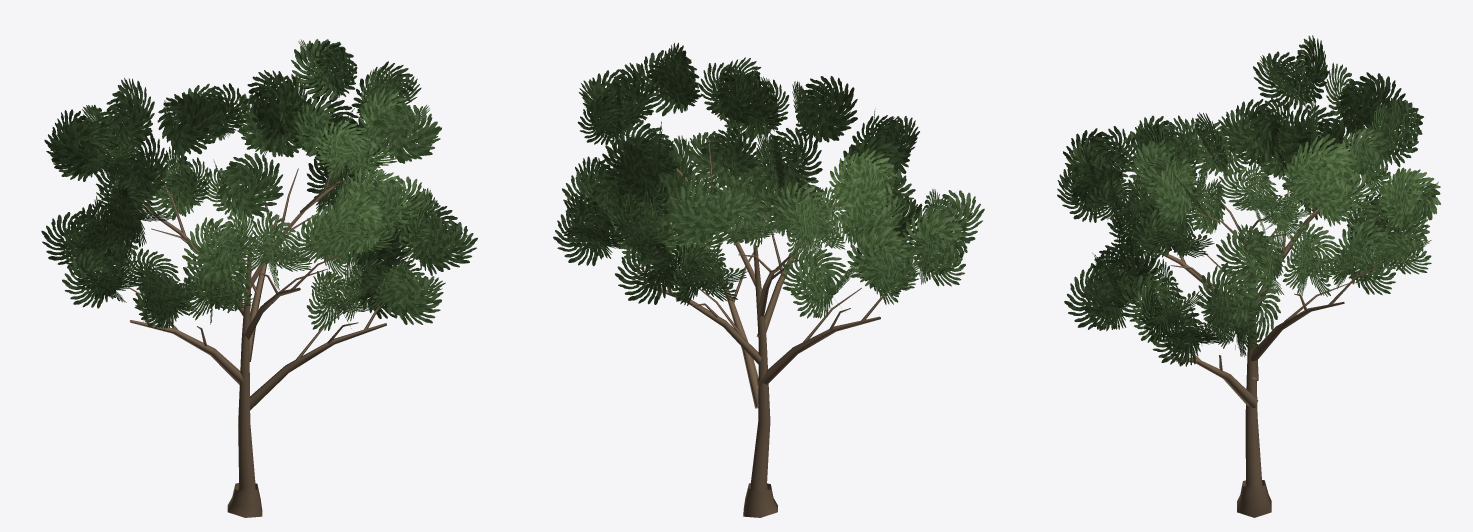
The picture shows the model from 3 angles, left to right: view 1: azimuth 30°, elevation 25°; view 2: azimuth 150°, elevation 25°; view 3: azimuth 270°, elevation 25°; orthographic projection.
Visible parts, largest first — view 1: Preserved terminal foliage sprays, Connected simplified trunk and branches; view 2: Preserved terminal foliage sprays, Connected simplified trunk and branches; view 3: Preserved terminal foliage sprays, Connected simplified trunk and branches.
Part boxes in pixels (x1=…): Preserved terminal foliage sprays: x1=41, y1=39, x2=477, y2=330; Connected simplified trunk and branches: x1=111, y1=167, x2=386, y2=517; Preserved terminal foliage sprays: x1=553, y1=43, x2=984, y2=318; Connected simplified trunk and branches: x1=625, y1=137, x2=910, y2=517; Preserved terminal foliage sprays: x1=1057, y1=35, x2=1440, y2=366; Connected simplified trunk and branches: x1=1123, y1=186, x2=1382, y2=517.
Bounding box in the file's own units: 9.92 × 10.07 × 8.75.
